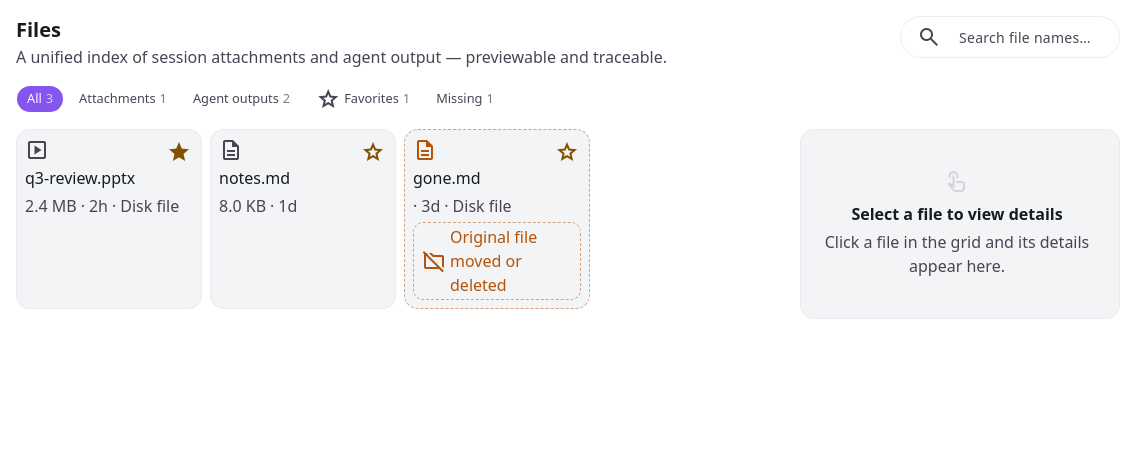
it: FilesPage — preview panel (R2 B1) › ≥1280px: no session_id → no jump; no extracted_segments → no badge (honest absence)
Click the button with test id "files-row-select": (303, 178) 219,138 -> 387,218
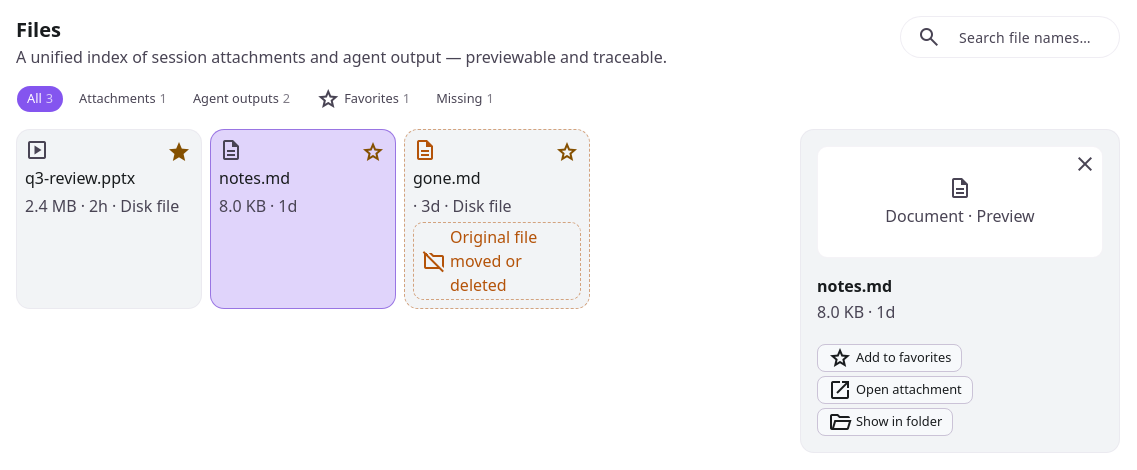
Expected: the element with test id "files-preview-card" shows "notes.md", 817,275 -> 892,297
